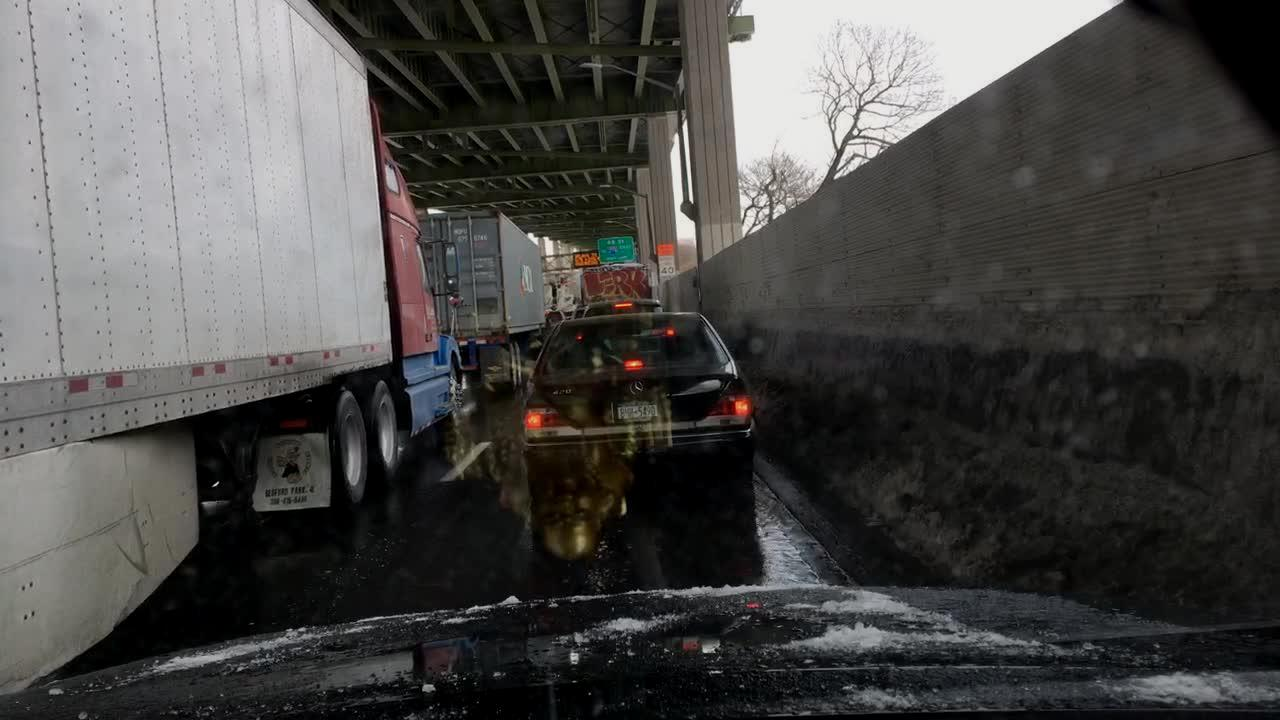Mercedes: (623, 376, 652, 400)
